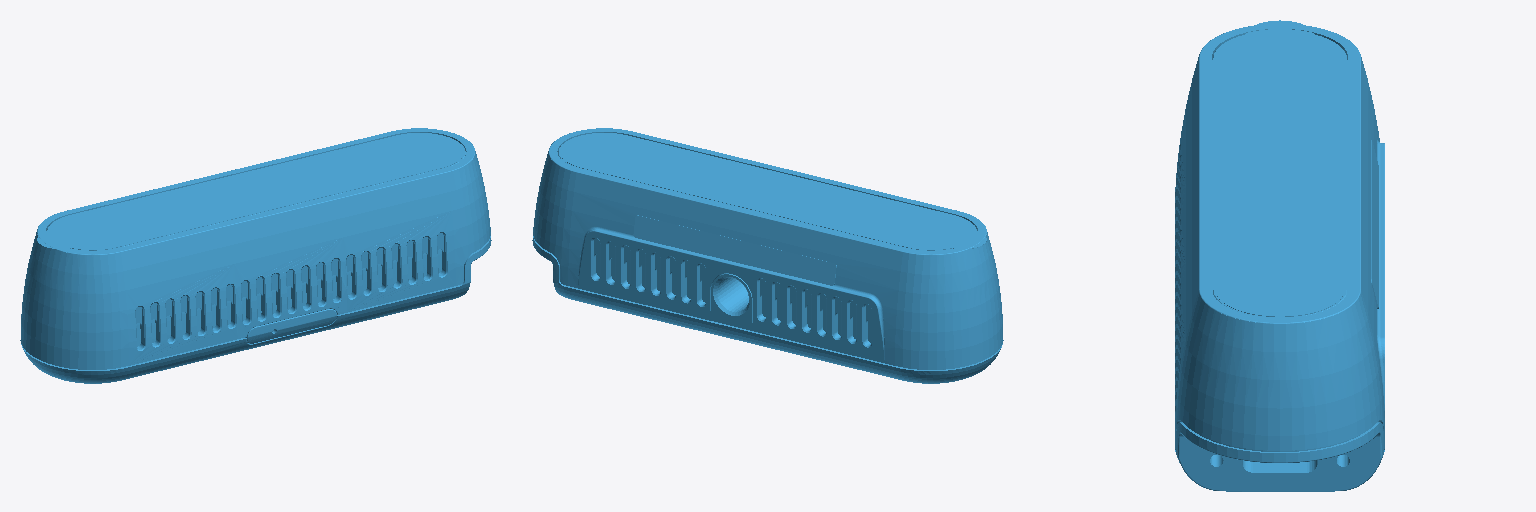
The robot description file, URDF, robot "d435":
<?xml version="1.0" ?>
<robot name="d435">
    <material name="mat">
        <texture filename="d435.mtl"/>
    </material>

    <link name="base_link"/>

    <!--    Define the mounting plates for the robot arms-->
    <link name="d435_link">
        <visual>
            <origin xyz="0 0 0" rpy="0 0 0"/>
            <geometry>
                <mesh filename="d435.obj" scale="0.1 0.1 0.1"/>
            </geometry>
        </visual>
        <collision>
            <origin xyz="0.0325 0 -0.0125" rpy="0 0 0"/>
            <geometry>
                <box size="0.09 0.025 0.025"/>
            </geometry>
        </collision>
        <inertial>
            <mass value="0.072"/>
        </inertial>
    </link>

    <joint name="base_link_2_d435_link" type="fixed">
        <parent link="base_link"/>
        <child link="d435_link"/>
        <origin xyz="0 0 0.00" rpy="0 0 0"/> # camera is modelled with Z+ forward, origin is in left eye (egocentric)
    </joint>

    <!--  The left imager, IR projector and right imager are -0.15, -0.44, -0.65 in X direction removed from the d435_link
        see https://www.intel.com/content/dam/support/us/en/documents/emerging-technologies/intel-realsense-technology/Intel-RealSense-D400-Series-Datasheet.pdf p106
    -->

    <!--    Virtual frames -->
    <link name="tripod_hole"/> <!-- virtual frame for the right eye -->
    <joint name="pose_of_tripod_hole_in_eye" type="fixed">
        <parent link="d435_link"/>
        <child link="tripod_hole"/>
        <origin xyz="0.0325 0.0125 -0.016" rpy="0 0 0"/>
    </joint>
</robot>

--- Facts derived from the render (not from the file) ---
The picture shows the robot from 3 angles, left to right: view 1: azimuth 30°, elevation 25°; view 2: azimuth 150°, elevation 25°; view 3: azimuth 270°, elevation 25°; orthographic projection.
Model d435 with 3 links and 2 joints (2 fixed), rooted at base_link, posed all joints at 0.
Visible links, largest first — view 1: d435_link; view 2: d435_link; view 3: d435_link.
Boxes of the visible links, x1,y1,x2,y2 form: d435_link: [20, 128, 491, 383]; d435_link: [532, 128, 1003, 383]; d435_link: [1175, 20, 1384, 491].
Size in the robot's own frame: 0.0899 by 0.025 by 0.0251 metres.
Meshes: 1 distinct files referenced, 1 mesh visuals loaded (1 OBJ).